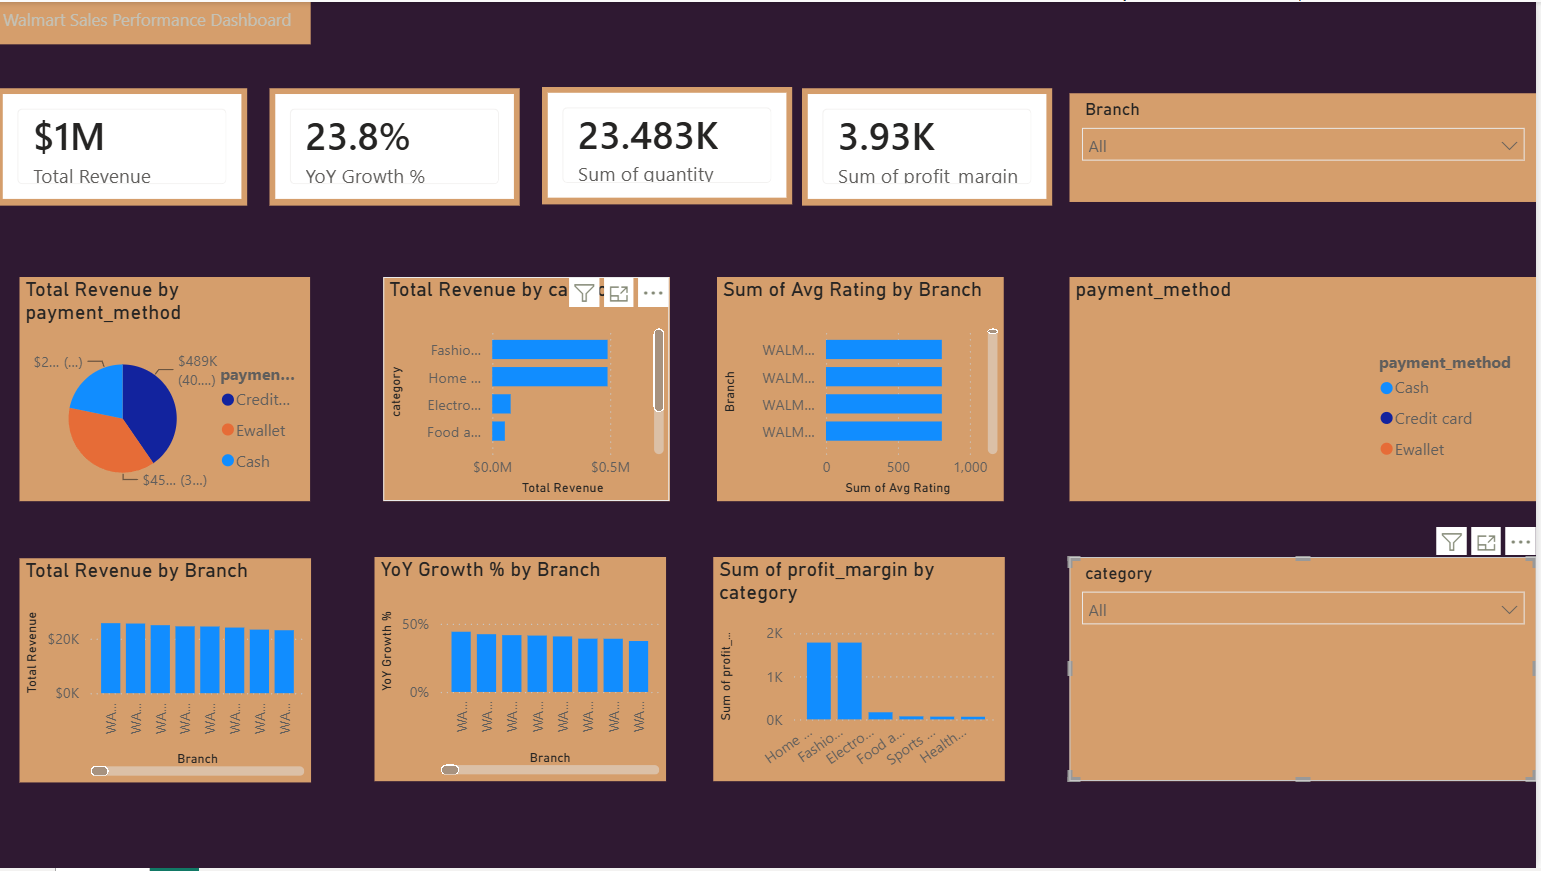

What the dashboard file says about the page in this screenshot:
{"tool":"powerbi","page":{"name":"Page 1","canvas":[1280,720],"ordinal":0},"visuals":[{"type":"textbox","box":[0,0,260.5,34.9],"z":0},{"type":"slicer","fields":{"Values":["Sales.Branch"]},"box":[891.9,75.6,388.4,90.7],"z":1000},{"type":"donutChart","fields":{"Category":["Sales.payment_method"]},"box":[891.9,229.1,388.4,186],"z":2000},{"type":"cardVisual","fields":{"Data":["Sales.Total Revenue"]},"box":[0,72.1,208.1,97.7],"z":3000},{"type":"cardVisual","fields":{"Data":["Sales.YoY Growth %"]},"box":[226.7,72.1,208.1,97.7],"z":4000},{"type":"cardVisual","fields":{"Data":["Sum(Sales.quantity)"]},"box":[453.5,70.9,208.1,97.7],"z":5000},{"type":"cardVisual","fields":{"Data":["Sum(Sales.profit_margin)"]},"box":[669.8,72.1,208.1,97.7],"z":6000},{"type":"pieChart","fields":{"Y":["Sales.Total Revenue"],"Category":["Sales.payment_method"]},"box":[18.6,229.1,241.9,186],"z":7000},{"type":"clusteredBarChart","fields":{"Category":["Sales.category"],"Y":["Sales.Total Revenue"]},"box":[313.9,228.6,238.4,186],"z":8000},{"type":"clusteredBarChart","fields":{"Y":["Sum(Branch Top Rated Category.Avg Rating)"],"Category":["Sales.Branch"]},"box":[595.5,229.7,238.4,186],"z":9000},{"type":"clusteredColumnChart","fields":{"Y":["Sales.Total Revenue"],"Category":["Sales.Branch"]},"box":[18.7,462.5,259.8,186],"z":10000},{"type":"clusteredColumnChart","fields":{"Category":["Sales.Branch"],"Y":["Sales.YoY Growth %"]},"box":[313.9,462.5,242,186],"z":11000},{"type":"clusteredColumnChart","fields":{"Y":["Sum(Sales.profit_margin)"],"Category":["Sales.category"]},"box":[595.4,461.6,242,186],"z":12000},{"type":"slicer","fields":{"Values":["Sales.category"]},"box":[891.9,461.6,388.4,186],"z":13000}]}

Visuals, with their boxes in screenshot pixels (x1, y1, x2, y2), scaled from the page's 1280x720 canvas onto the 1541x871 screenshot:
textbox: <region>0, 0, 314, 42</region>
slicer - Sales.Branch: <region>1074, 91, 1540, 201</region>
donutChart - Sales.payment_method: <region>1074, 277, 1540, 502</region>
cardVisual - Sales.Total Revenue: <region>0, 87, 251, 205</region>
cardVisual - Sales.YoY Growth %: <region>273, 87, 523, 205</region>
cardVisual - Sum(Sales.quantity): <region>546, 86, 797, 204</region>
cardVisual - Sum(Sales.profit_margin): <region>806, 87, 1057, 205</region>
pieChart - Sales.Total Revenue x Sales.payment_method: <region>22, 277, 314, 502</region>
clusteredBarChart - Sales.category x Sales.Total Revenue: <region>378, 277, 665, 502</region>
clusteredBarChart - Sum(Branch Top Rated Category.Avg Rating) x Sales.Branch: <region>717, 278, 1004, 503</region>
clusteredColumnChart - Sales.Total Revenue x Sales.Branch: <region>23, 559, 335, 785</region>
clusteredColumnChart - Sales.Branch x Sales.YoY Growth %: <region>378, 559, 669, 785</region>
clusteredColumnChart - Sum(Sales.profit_margin) x Sales.category: <region>717, 558, 1008, 783</region>
slicer - Sales.category: <region>1074, 558, 1540, 783</region>
